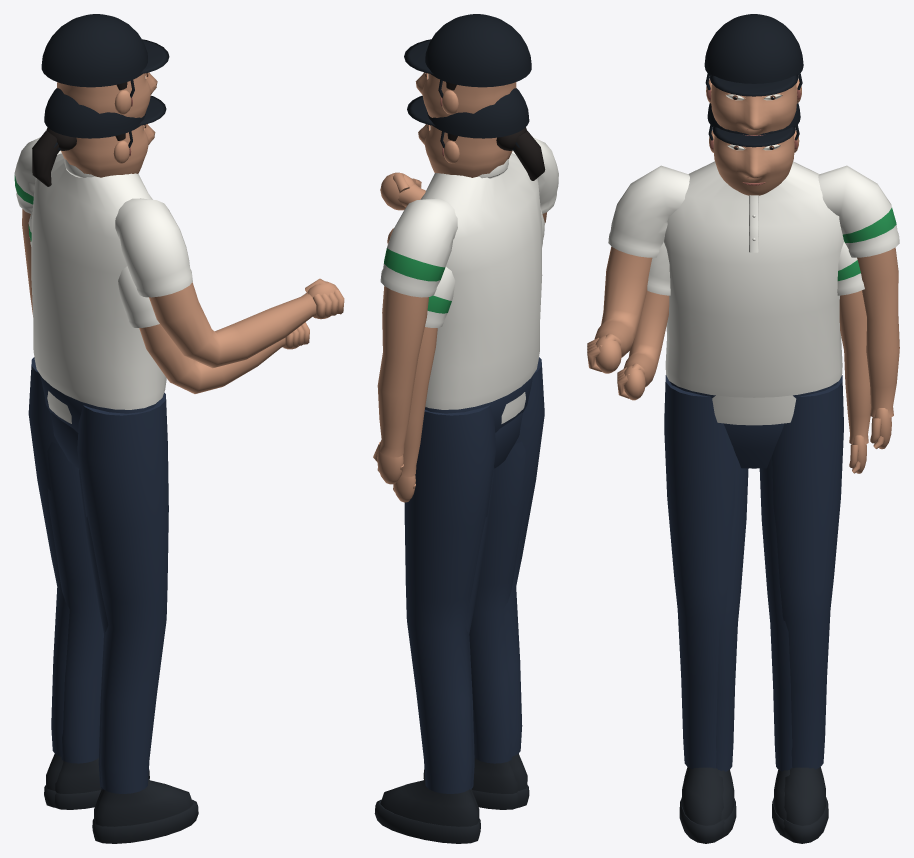
The model's file is paddock-groom.glb.
3 renders of one model, left to right at view 1: azimuth 30°, elevation 25°; view 2: azimuth 150°, elevation 25°; view 3: azimuth 270°, elevation 25°, orthographic.
Parts seen in each view (by area): view 1: GroomA_Body, GroomA_LegR, GroomB_Body, GroomB_LegL, GroomA_LegL, GroomA_ArmL, GroomB_LegR; view 2: GroomA_Body, GroomA_LegL, GroomB_LegR, GroomA_ArmL, GroomB_Body, GroomA_LegR, GroomB_ArmL, GroomB_LegL; view 3: GroomA_Body, GroomA_LegR, GroomA_LegL, GroomB_Body, GroomA_ArmL, GroomB_LegR, GroomB_LegL, GroomB_ArmL.
Part boxes in pixels (x1,y1,x2,y2): GroomA_Body: (31, 14, 344, 432); GroomA_LegR: (77, 392, 198, 843); GroomB_Body: (32, 88, 309, 468); GroomB_LegL: (47, 442, 103, 809); GroomA_LegL: (28, 357, 149, 807); GroomA_ArmL: (14, 137, 61, 314); GroomB_LegR: (79, 466, 108, 827); GroomA_Body: (380, 14, 558, 432); GroomA_LegL: (374, 405, 495, 843); GroomB_LegR: (469, 441, 525, 809); GroomA_ArmL: (373, 198, 457, 484); GroomB_Body: (387, 88, 545, 468); GroomA_LegR: (423, 357, 544, 807); GroomB_ArmL: (393, 267, 455, 502); GroomB_LegL: (465, 467, 494, 828); GroomA_Body: (587, 14, 843, 398); GroomA_LegR: (664, 375, 736, 843); GroomA_LegL: (772, 375, 843, 843); GroomB_Body: (617, 103, 800, 468); GroomA_ArmL: (818, 165, 899, 449); GroomB_LegR: (716, 456, 748, 838); GroomB_LegL: (759, 456, 792, 838); GroomB_ArmL: (837, 241, 870, 473).
Bounding box in the file's own units: 0.7926 × 2.58 × 0.9274.
